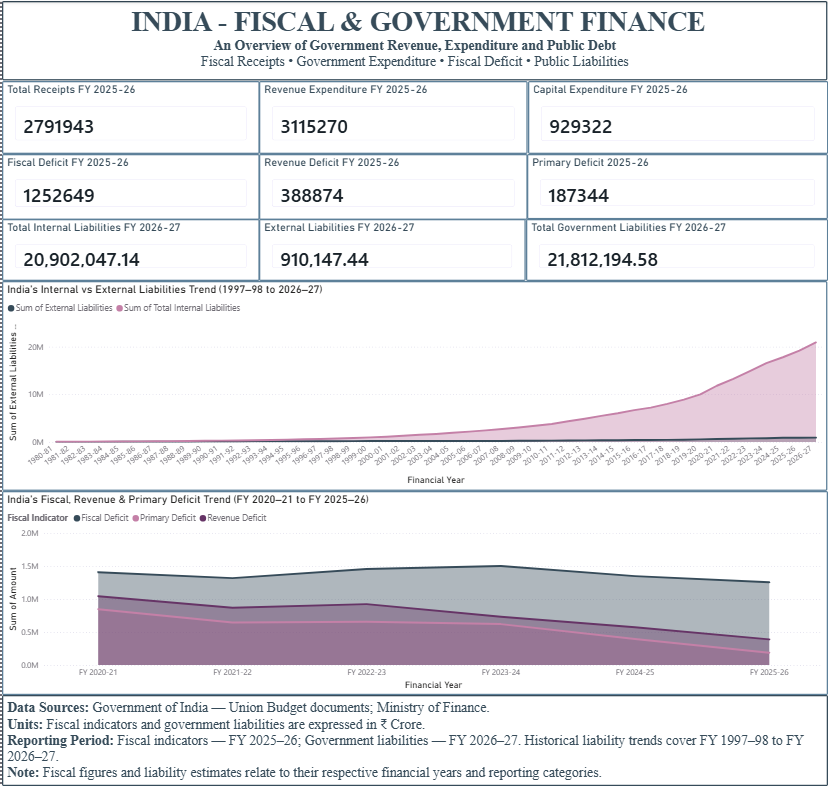

This screenshot's page, from the dashboard's own definition file:
{"tool":"powerbi","page":{"name":"Fiscal & Government Finance","canvas":[1280,1215],"ordinal":3},"visuals":[{"type":"cardVisual","title":"Fiscal Deficit FY 2025-26","fields":{"Data":["Fact_Fiscal.Fiscal Deficit FY 2025-26"]},"box":[0,236.2,399.2,102.1],"z":0},{"type":"cardVisual","title":"Revenue Deficit FY 2025-26","fields":{"Data":["Fact_Fiscal.Revenue Deficit FY 2025-26"]},"box":[397.7,236.2,416,102.1],"z":1000},{"type":"cardVisual","title":"Primary Deficit 2025-26","fields":{"Data":["Fact_Fiscal.Primary Deficit FY 2025-26"]},"box":[812.9,236.9,466.1,100.6],"z":2000},{"type":"cardVisual","title":"Total Receipts FY 2025-26 ","fields":{"Data":["Fact_Fiscal.Total Receipts FY 2025-26"]},"box":[0,123.4,399.2,112.8],"z":3000},{"type":"cardVisual","title":"Revenue Expenditure FY 2025-26","fields":{"Data":["Fact_Fiscal.Revenue Expenditure FY 2025-26"]},"box":[397.7,123.4,416,112.8],"z":4000},{"type":"cardVisual","title":"Capital Expenditure FY 2025-26","fields":{"Data":["Fact_Fiscal.Capital Expenditure FY 2025-26"]},"box":[814.5,123.9,464.5,113],"z":5000},{"type":"cardVisual","title":"Total Internal Liabilities FY 2026-27","fields":{"Data":["Fact_Government_Liabilities.Total Internal Liabilities FY 2026-27"]},"box":[0,338.3,399.2,96],"z":6000},{"type":"cardVisual","title":"External Liabilities FY 2026-27","fields":{"Data":["Fact_Government_Liabilities.External Liabilities FY 2026-27"]},"box":[397.7,338.3,413,96],"z":7000},{"type":"cardVisual","title":"Total Government Liabilities FY 2026-27","fields":{"Data":["Fact_Government_Liabilities.Total Government Liabilities FY 2026-27"]},"box":[810.7,338.3,467.8,96],"z":8000},{"type":"lineChart","title":"India''s Internal vs External Liabilities Trend (1997–98 to 2026–27)","fields":{"Category":["Fact_Government_Liabilities.Financial Year"],"Y":["Sum(Fact_Government_Liabilities.External Liabilities)","Sum(Fact_Government_Liabilities.Total Internal Liabilities)"]},"box":[0,434.3,1278.5,324.6],"z":9000},{"type":"lineChart","title":"India''s Fiscal, Revenue & Primary Deficit Trend (FY 2020–21 to FY 2025–26)","fields":{"Category":["Fact_Fiscal.Financial Year"],"Series":["Fact_Fiscal.Fiscal Indicator"],"Y":["Sum(Fact_Fiscal.Amount)"]},"box":[0,758.7,1279,315.9],"z":10000},{"type":"textbox","box":[0,1074.6,1279,140.9],"z":11000},{"type":"textbox","box":[0,0,1278.5,123.4],"z":12000}]}

Visuals, with their boxes in screenshot pixels (x1, y1, x2, y2), scaled from the page's 1280x1215 canvas onto the 828x786 screenshot:
"Fiscal Deficit FY 2025-26" cardVisual: select_region(0, 153, 258, 219)
"Revenue Deficit FY 2025-26" cardVisual: select_region(257, 153, 526, 219)
"Primary Deficit 2025-26" cardVisual: select_region(526, 153, 827, 218)
"Total Receipts FY 2025-26 " cardVisual: select_region(0, 80, 258, 153)
"Revenue Expenditure FY 2025-26" cardVisual: select_region(257, 80, 526, 153)
"Capital Expenditure FY 2025-26" cardVisual: select_region(527, 80, 827, 153)
"Total Internal Liabilities FY 2026-27" cardVisual: select_region(0, 219, 258, 281)
"External Liabilities FY 2026-27" cardVisual: select_region(257, 219, 524, 281)
"Total Government Liabilities FY 2026-27" cardVisual: select_region(524, 219, 827, 281)
"India''s Internal vs External Liabilities Trend (1997–98 to 2026–27)" lineChart: select_region(0, 281, 827, 491)
"India''s Fiscal, Revenue & Primary Deficit Trend (FY 2020–21 to FY 2025–26)" lineChart: select_region(0, 491, 827, 695)
textbox: select_region(0, 695, 827, 785)
textbox: select_region(0, 0, 827, 80)
